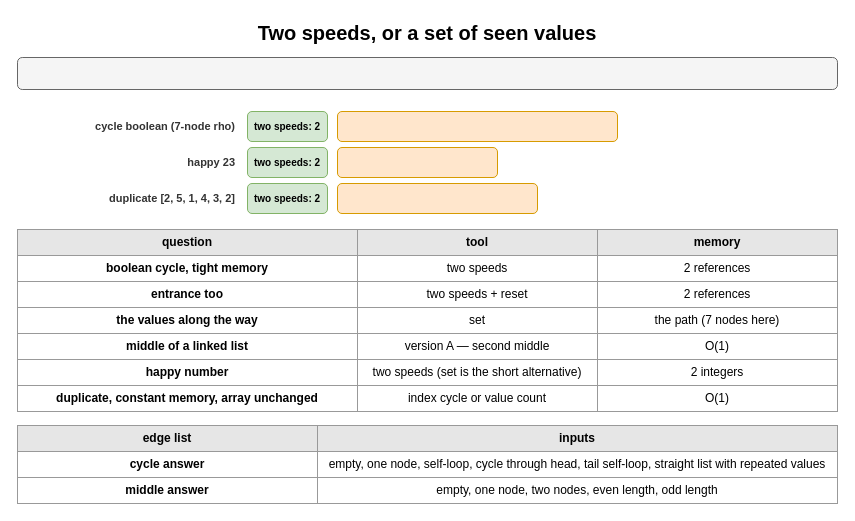
Image size: 855x521. Some labels were removed from this diagram. The shapes that lost their labels are listed below. From the top down, each one's centre as x and y in pixels, then its label:
At (427,73): "Choose from what the statement asks you to return and how much memory it allows".
At (477,126): "set: 7".
At (417,162): "set: 4".
At (437,198): "set: 5".
